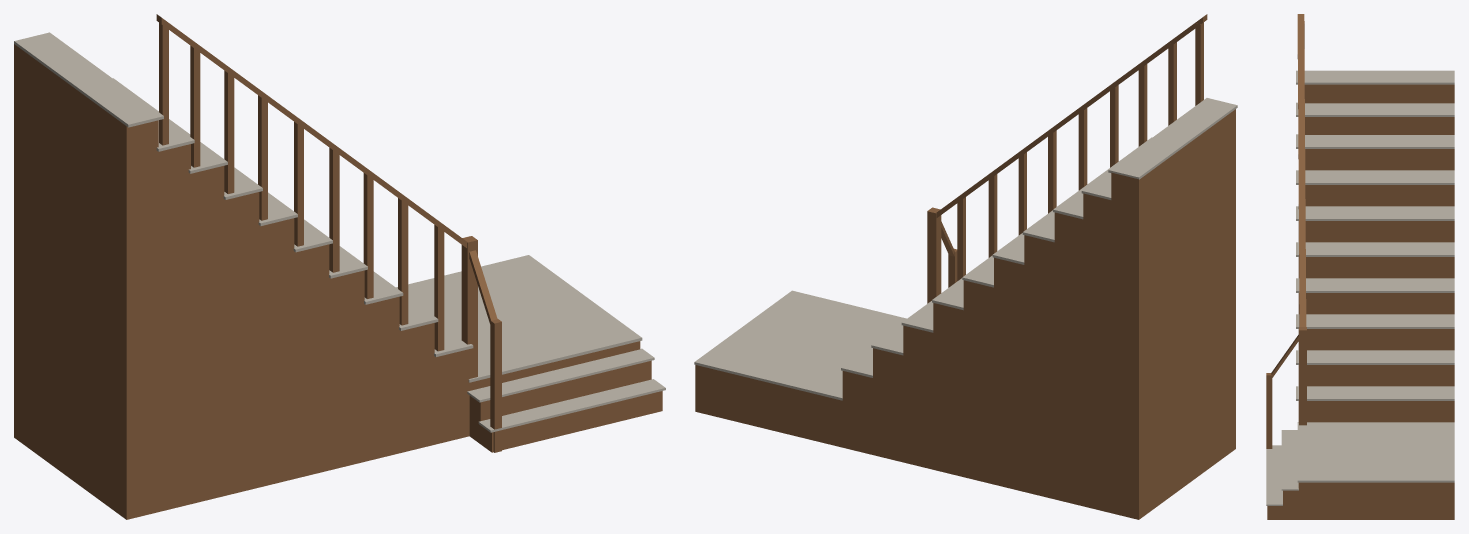
Rendered from Stairs_03.fbx.
3 views of the same model, side by side, from view 1: azimuth 30°, elevation 25°; view 2: azimuth 150°, elevation 25°; view 3: azimuth 270°, elevation 25° (orthographic). The views are drawn at different scales.
Visible parts, largest first — view 1: Stairs_03; view 2: Stairs_03; view 3: Stairs_03.
Part boxes in pixels (x1,y1,x2,y2): Stairs_03: (14, 14, 665, 519); Stairs_03: (694, 14, 1237, 519); Stairs_03: (1266, 14, 1454, 519).
Size of the model in its own units: 345 by 316 by 157.
